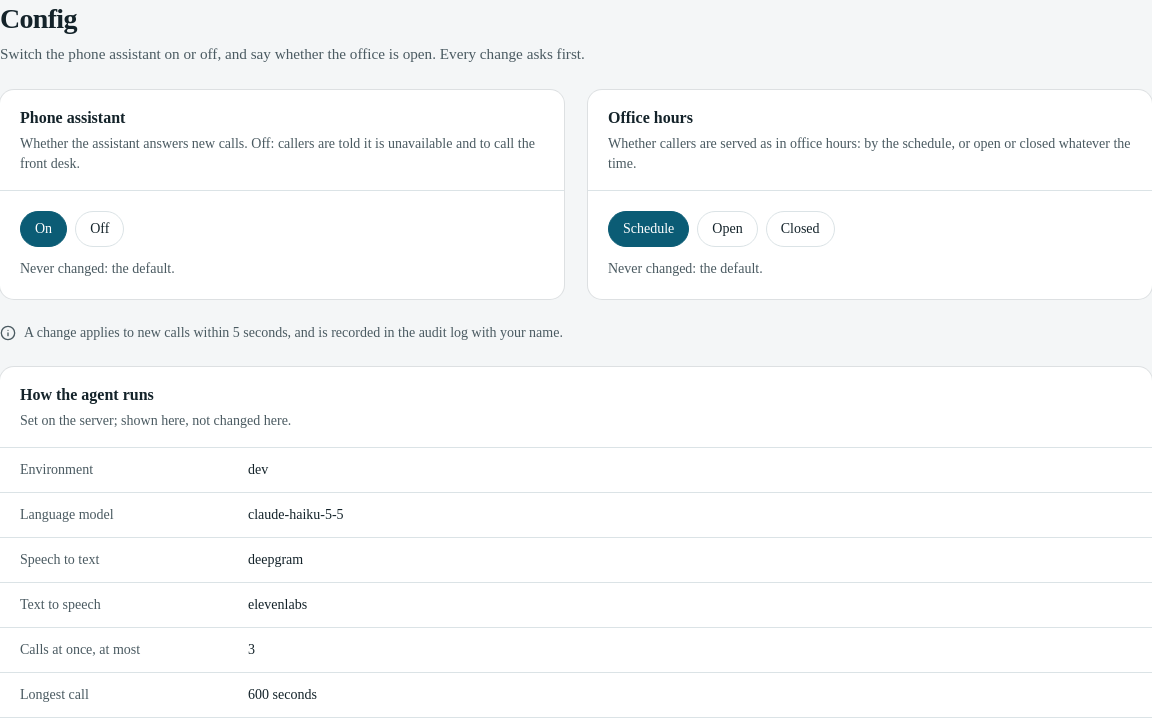
Test: Config › starts the dialog's focus on Cancel and draws switching off as destructive
Click the radio button labelled "Off".
click(100, 229)  # box [75,211,124,247]
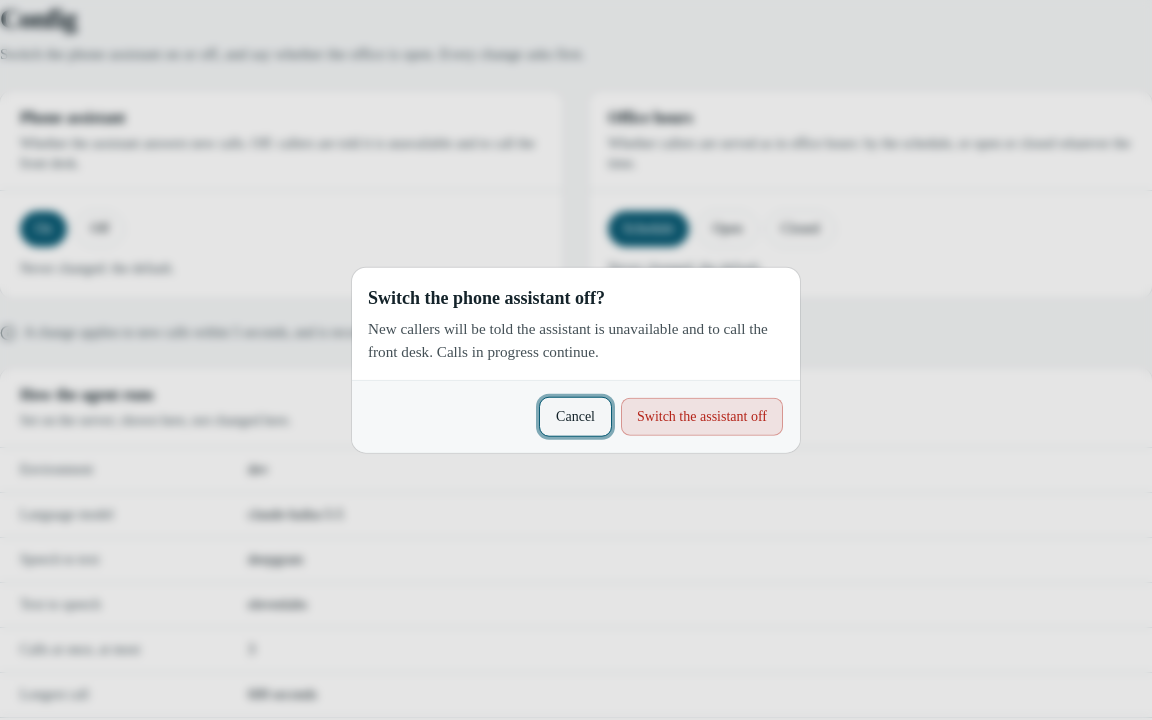
Check: the button "Cancel" is shown, box [539,396,612,436]
